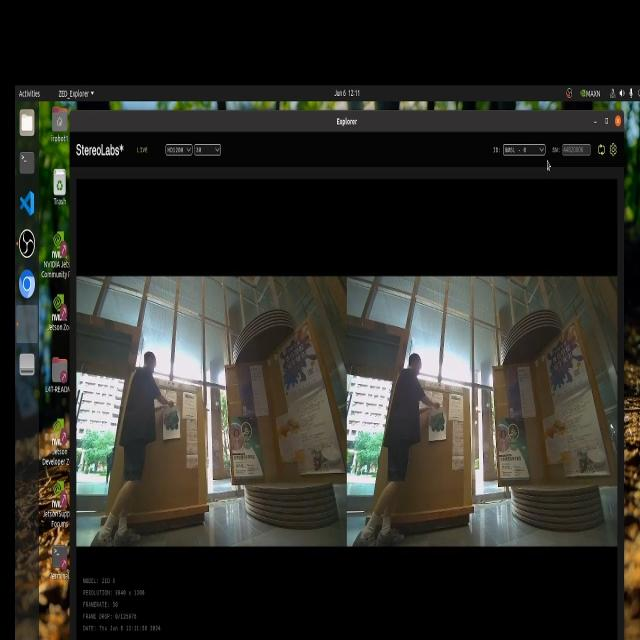green: (158, 405, 183, 437), (420, 413, 447, 442)
